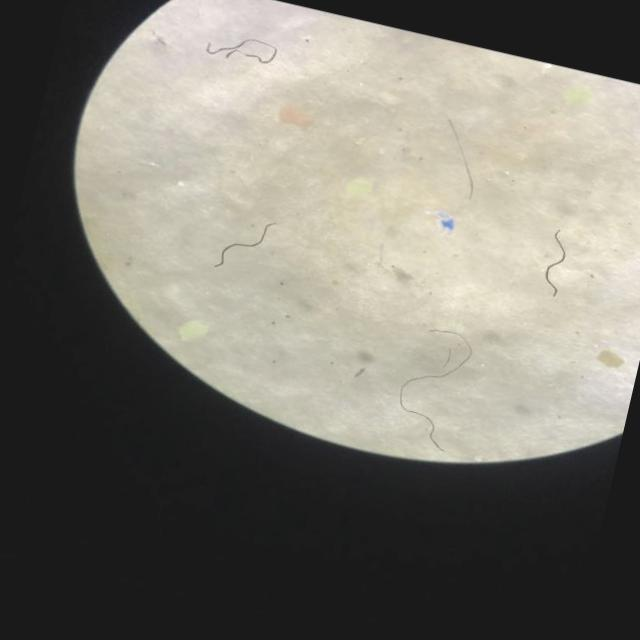fiber: (398, 330, 472, 451), (214, 223, 271, 267), (447, 121, 473, 198), (205, 38, 275, 65), (543, 231, 565, 296)
film: (436, 212, 453, 231)
fragment: (277, 107, 311, 128), (177, 320, 206, 340), (564, 85, 589, 105), (597, 350, 622, 369), (345, 178, 370, 197)
pellet: (178, 182, 182, 186)
